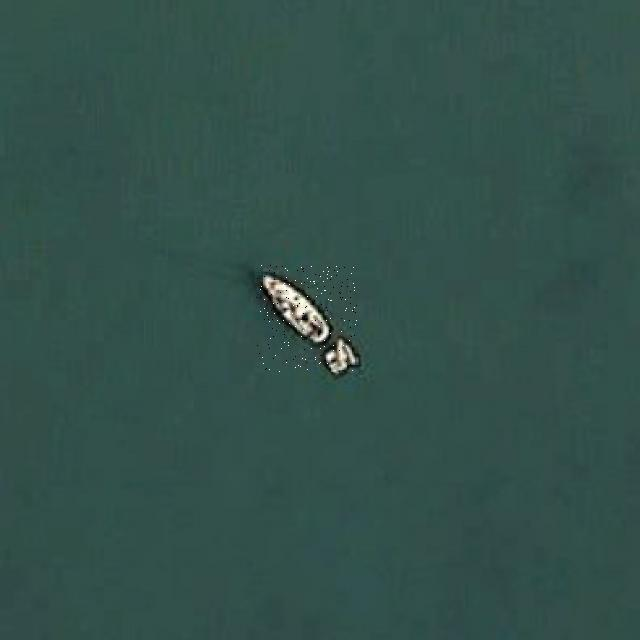boat: (255, 265, 358, 372)
